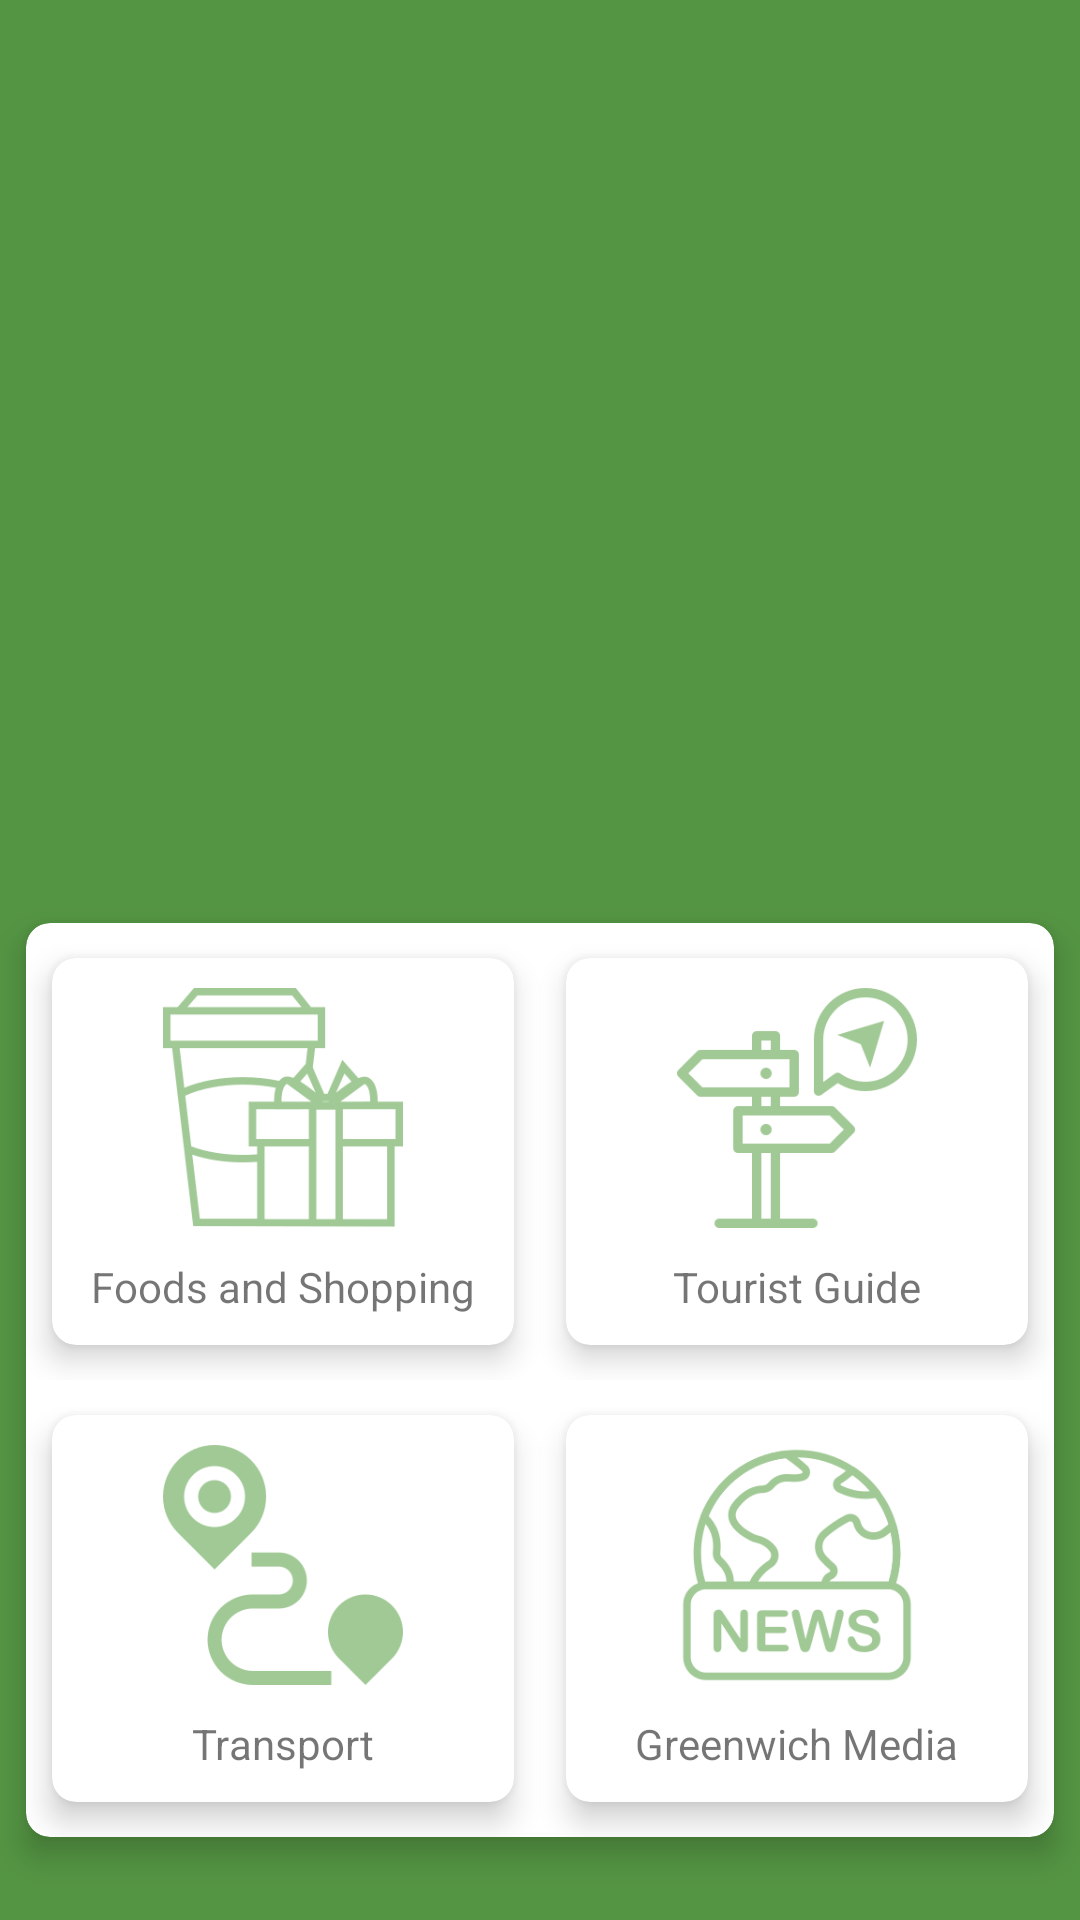

Icon bounding boxes for this 1080x1920 phone screenshot, format (x1, y1, x2, y2):
food and gift: (163, 988, 403, 1227)
